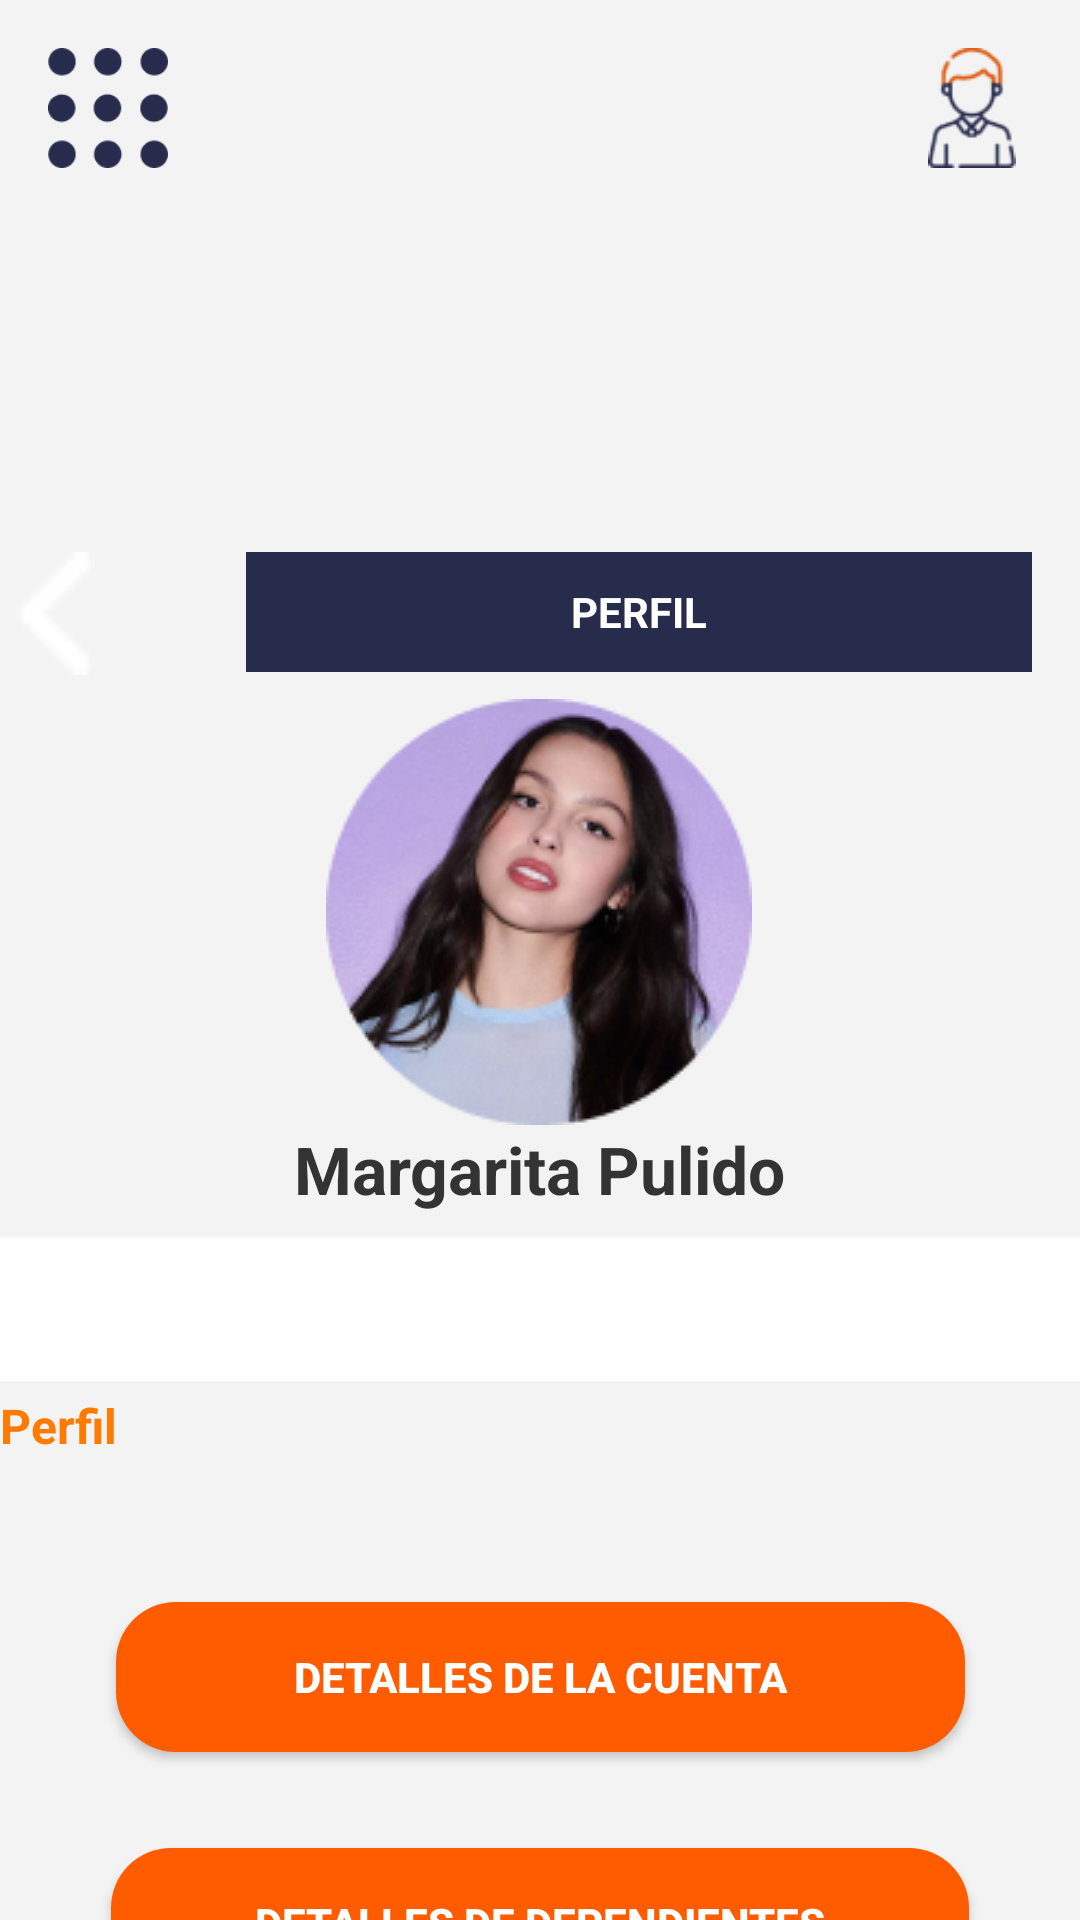

Named icons in this screenshot (1080w x 1920h) and their centers, (x=x, y=y):
menu: (x=108, y=108)
profile: (x=972, y=108)
